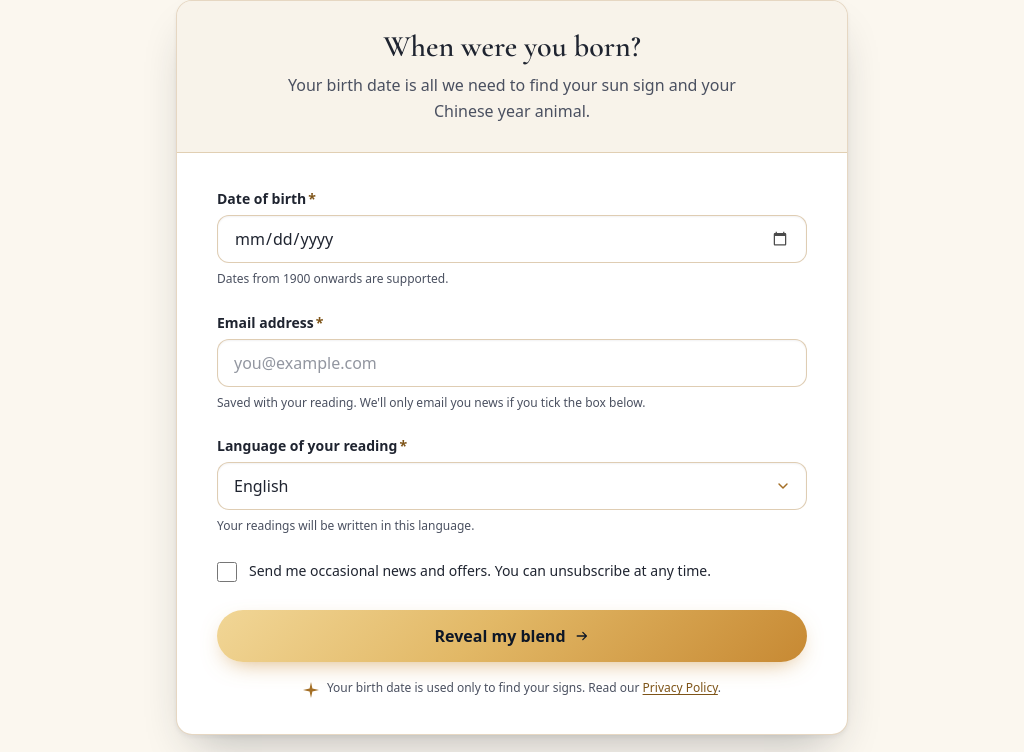
Test case: FreeReadingFlow › maps API errors to fields and rate limits to a timed message
Type "1990-02-04" into the date field labelled "Date of birth*" at (512, 239), box [217,215,807,263]
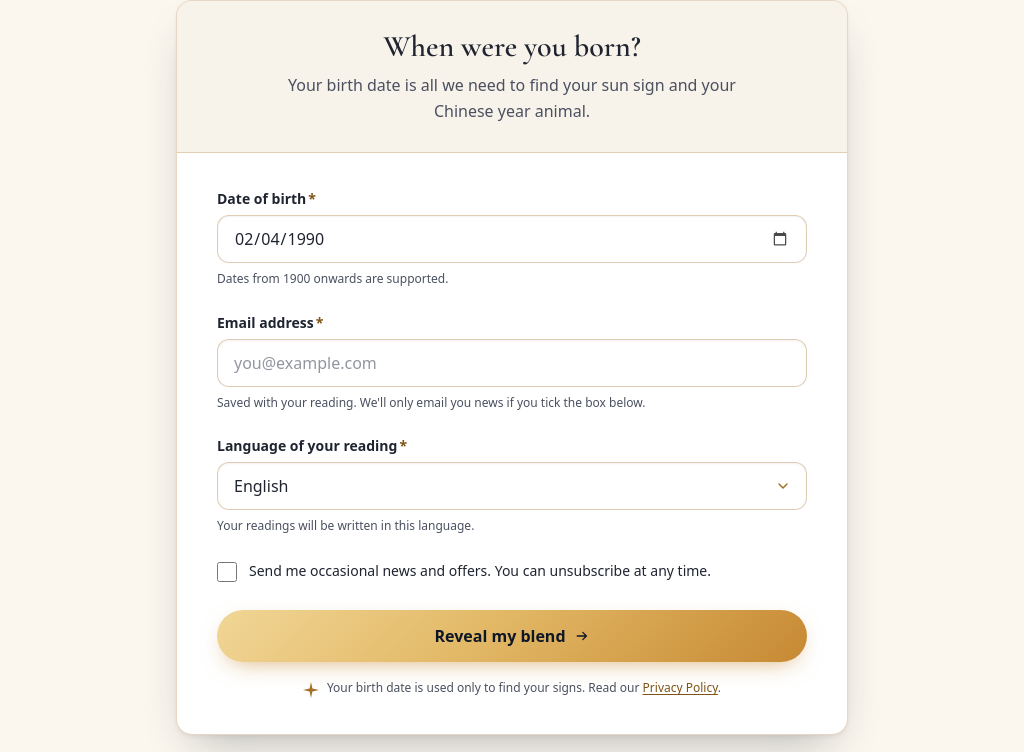
Type "odd@example.com" into the field labelled "Email address*" at (512, 363), box [217,339,807,387]
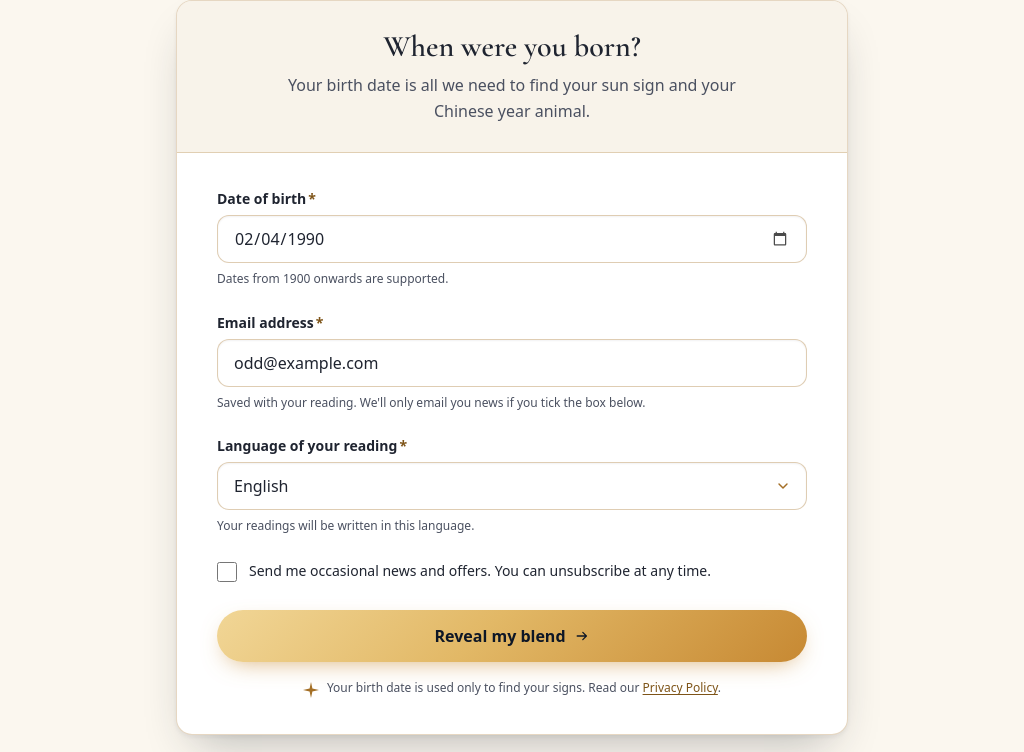
Click the button "Reveal my blend" at (512, 636), box [217,610,807,662]
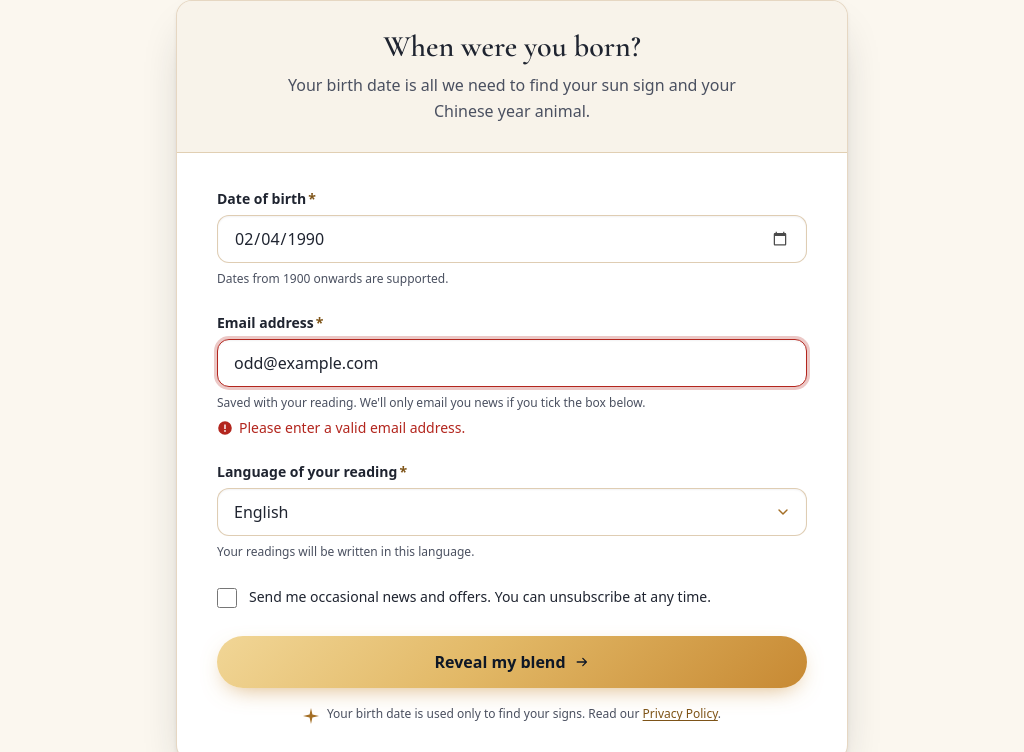
Now the text "Please enter a valid email address." is shown, box [239,418,465,438]
Click the button "Reveal my blend" at (512, 662), box [217,636,807,688]
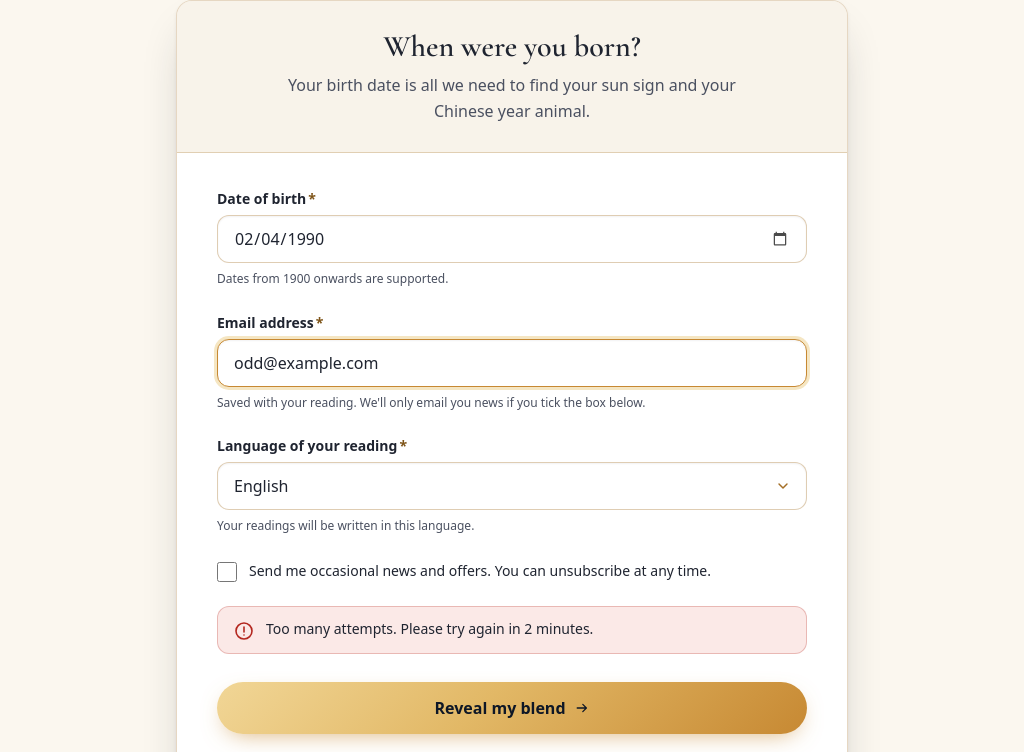
Now the message shows "try again in 2 minutes", box [266,619,593,638]
